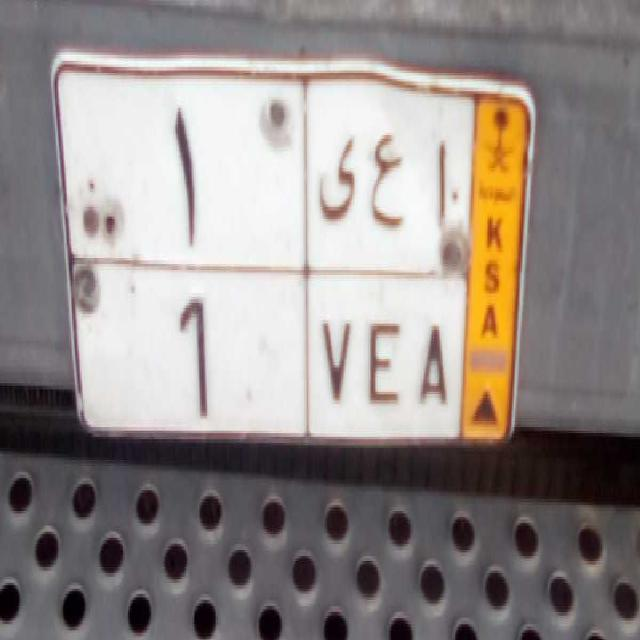license_plate: (67, 258, 463, 452)
